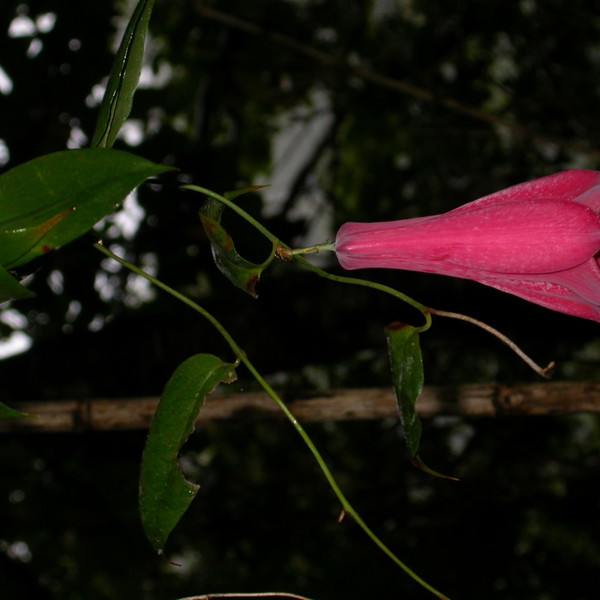obstacle: (43, 57, 594, 530)
